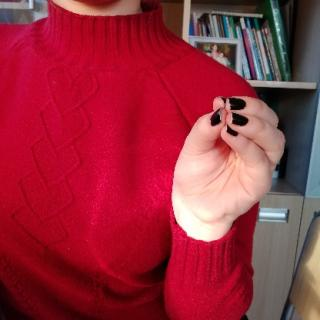HA: (170, 82, 293, 224)
